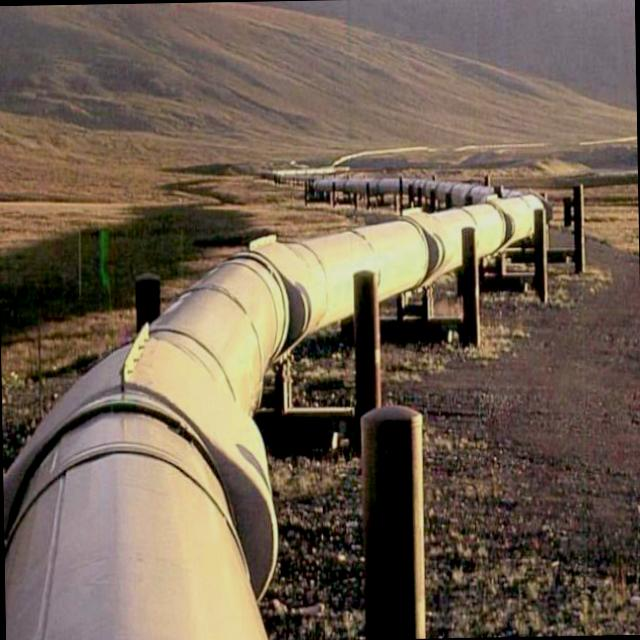gas: (4, 175, 546, 640)
